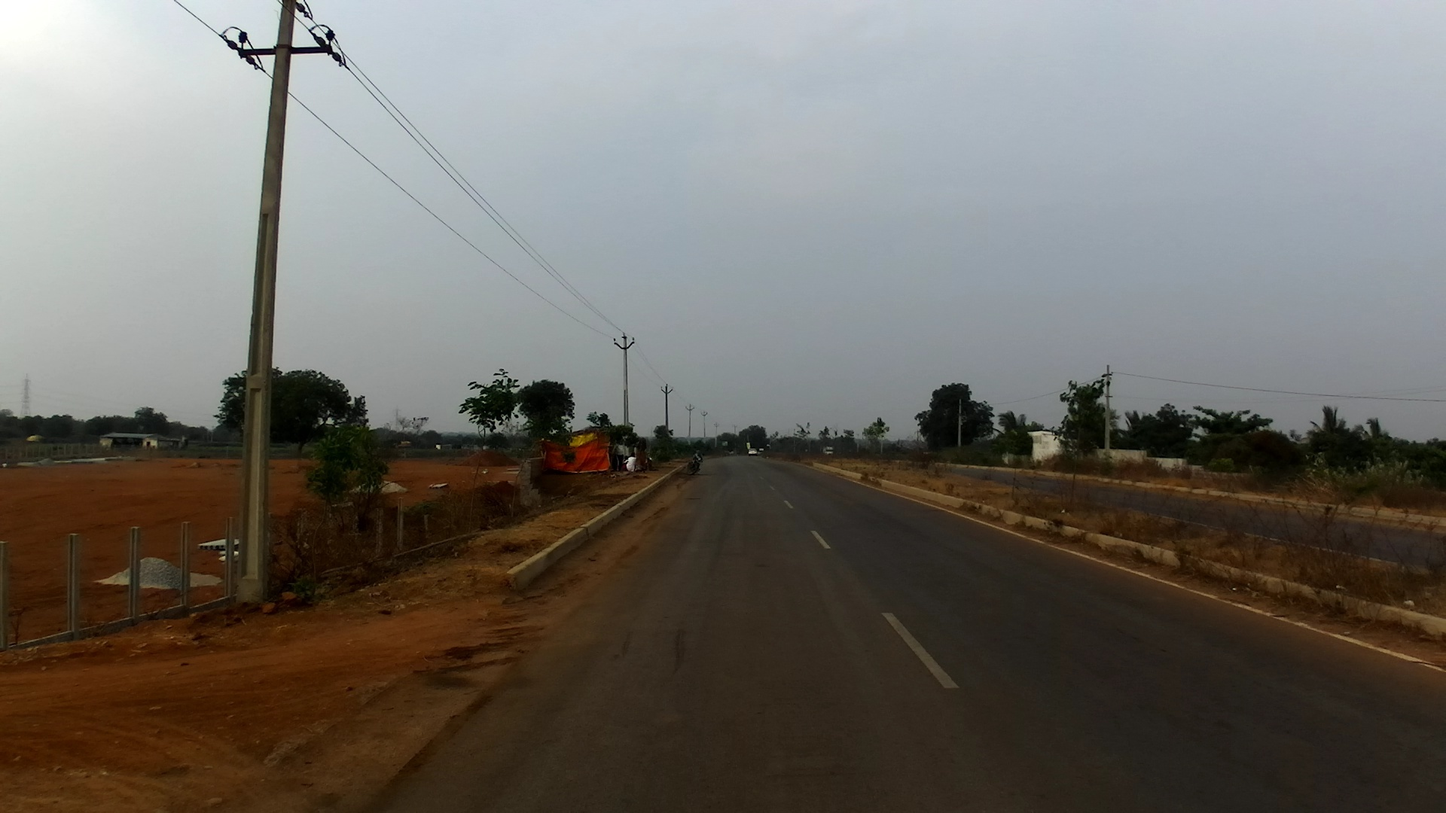car: (747, 448, 758, 455)
motorcycle: (685, 450, 703, 476)
person: (612, 437, 624, 470), (623, 451, 636, 471), (622, 456, 629, 470)
vehicle fallback: (823, 447, 834, 455), (758, 447, 764, 455)
